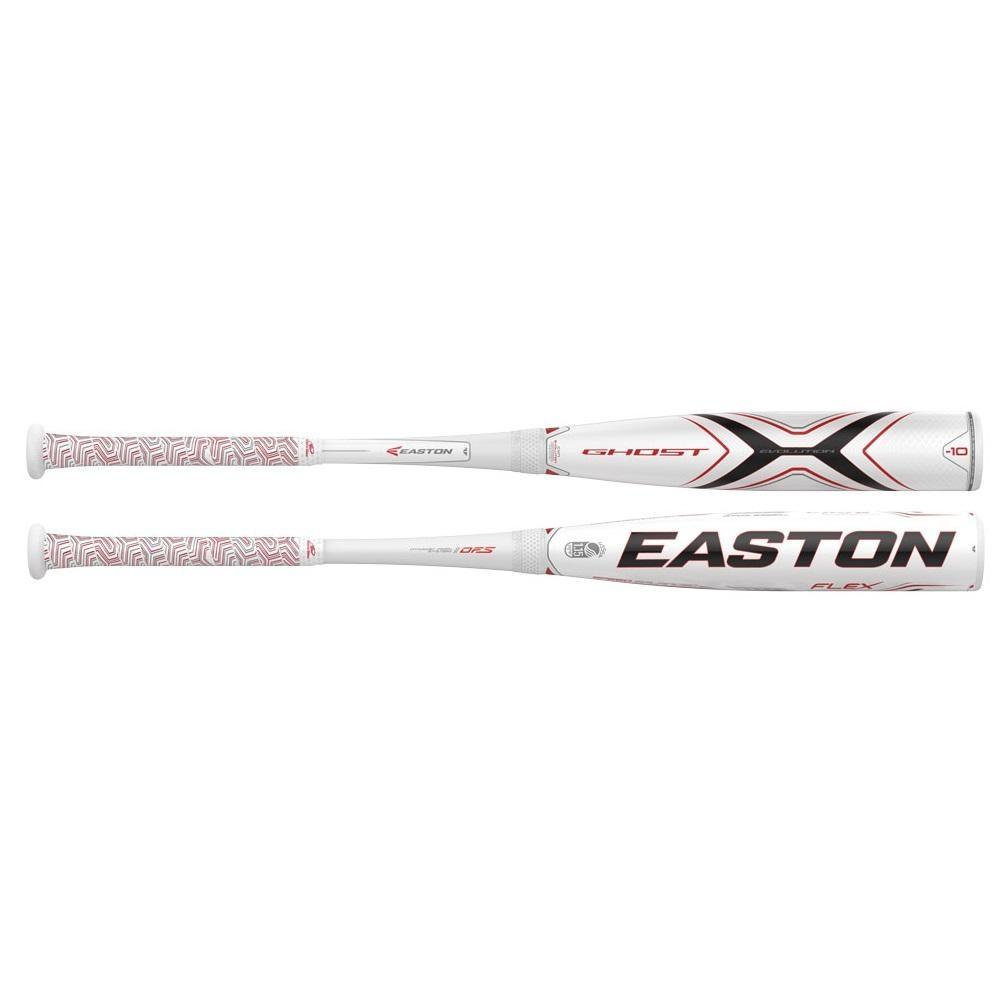Baseball-Bat: (0, 380, 990, 500), (29, 504, 991, 590)
